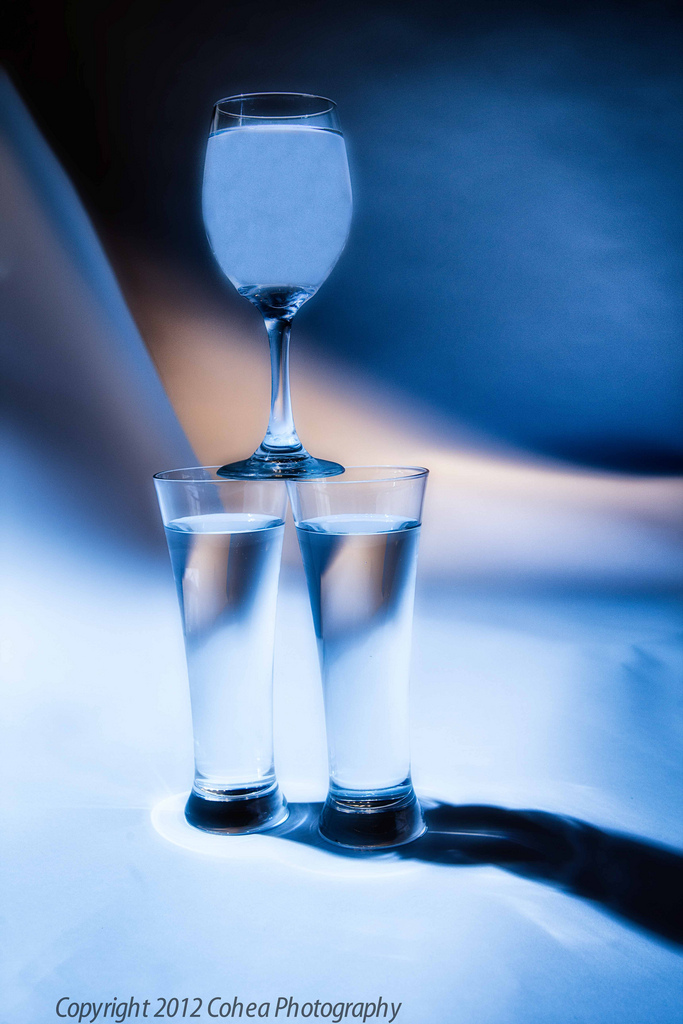glass of water: (187, 76, 362, 447), (149, 447, 293, 824), (311, 461, 430, 849)
